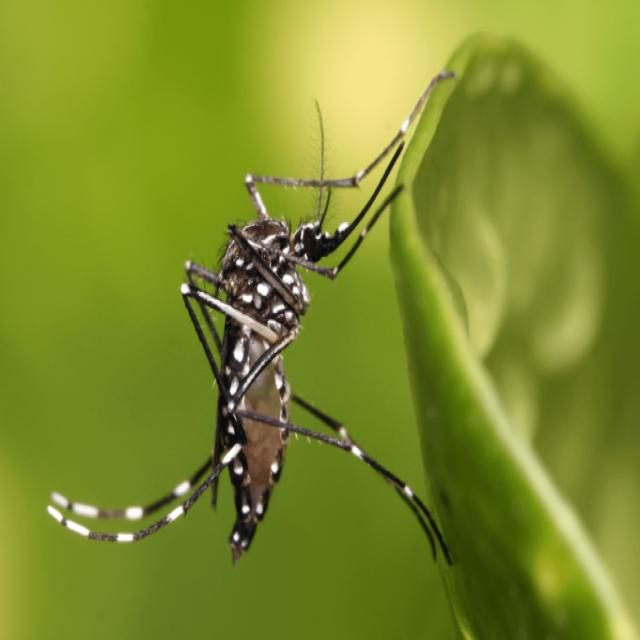Mosquito: (89, 80, 417, 600)
